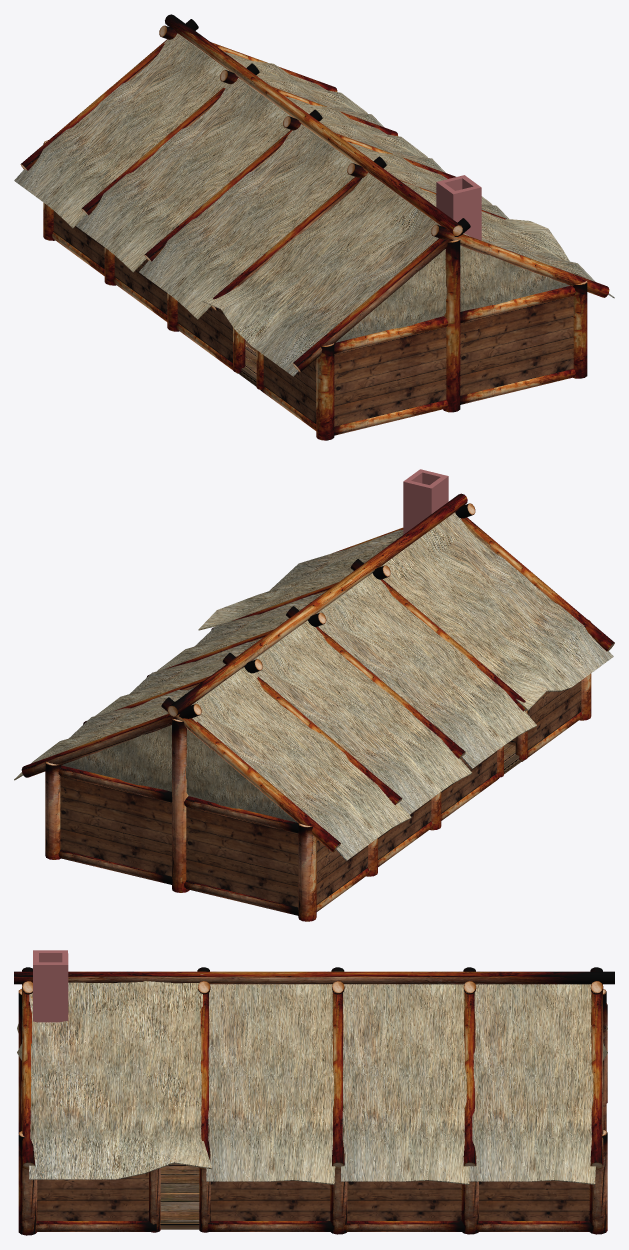
Rendered from tavern_var1_ver_003.fbx.
3 views of the same model, one above another, from view 1: azimuth 30°, elevation 25°; view 2: azimuth 150°, elevation 25°; view 3: azimuth 270°, elevation 25° (orthographic). The views are drawn at different scales.
Parts seen in each view (by area): view 1: tavern; view 2: tavern; view 3: tavern.
Part boxes in pixels (x1,y1,x2,y2): tavern: (14, 14, 614, 440); tavern: (14, 469, 614, 921); tavern: (14, 950, 614, 1235).
Bounding box in the file's own units: 189 × 114 × 281.
